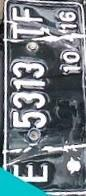plat: (1, 7, 86, 195)
